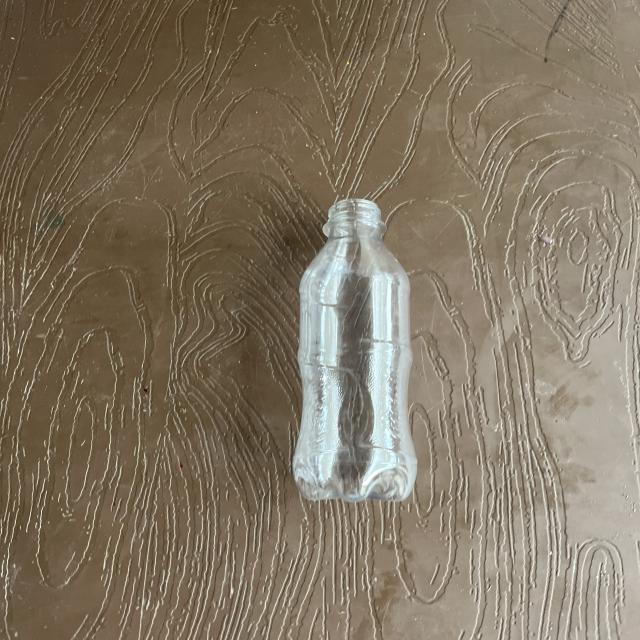PET_ClearBottle: (282, 200, 426, 638)
